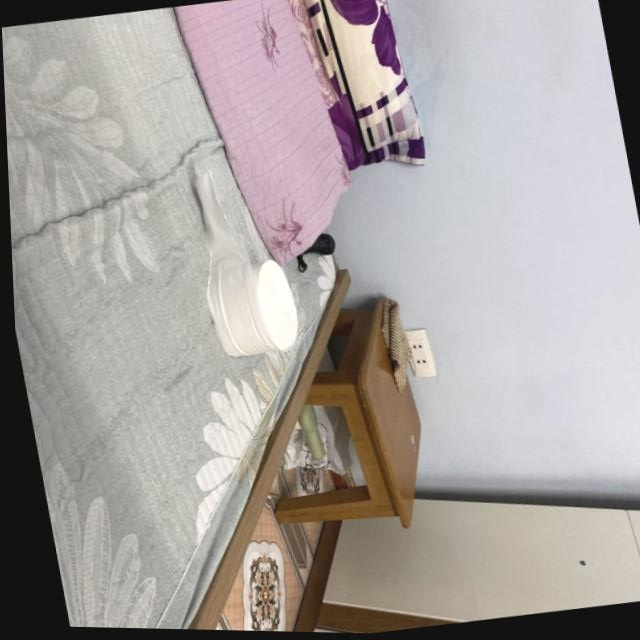outlet: (403, 326, 438, 380)
